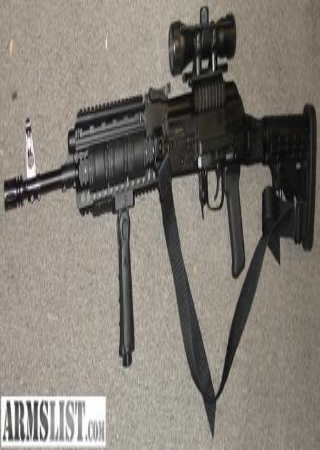rifle: (4, 5, 320, 256)
